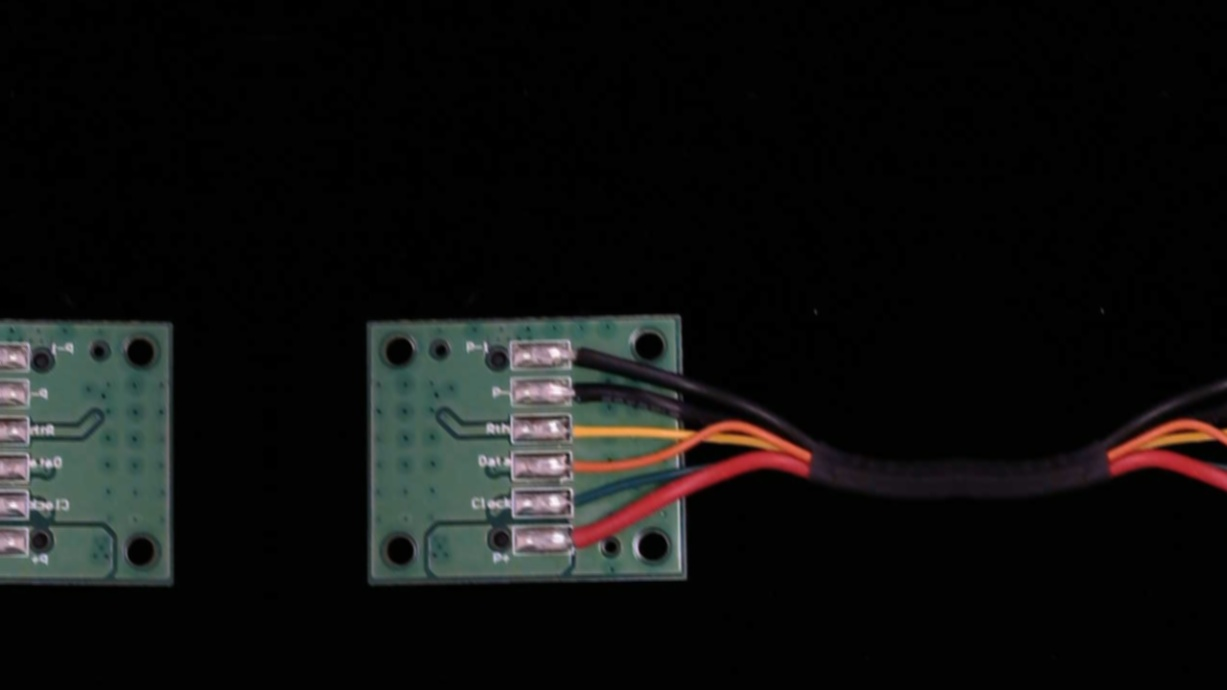Black: (556, 375, 618, 408)
Black1: (556, 338, 610, 368)
Green: (555, 483, 609, 516)
Orange: (553, 449, 612, 481)
Red: (559, 522, 616, 555)
Yellow: (556, 414, 616, 445)
